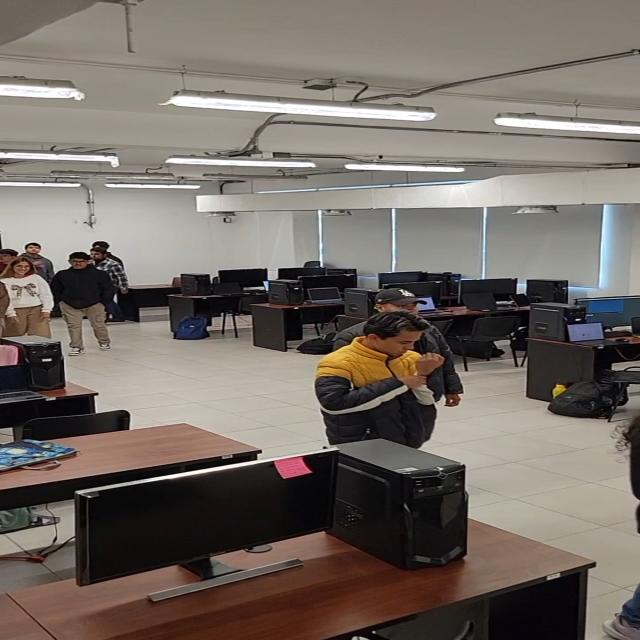Persona: (314, 312, 447, 454), (334, 288, 468, 414), (53, 251, 127, 355), (1, 256, 66, 354), (84, 245, 133, 302), (15, 241, 54, 271), (0, 248, 19, 270)
